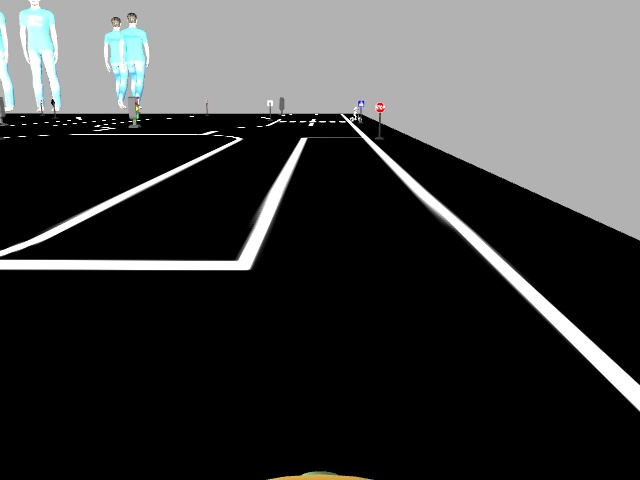Stop: (372, 100, 386, 113)
TrafficLight: (125, 95, 141, 121)
